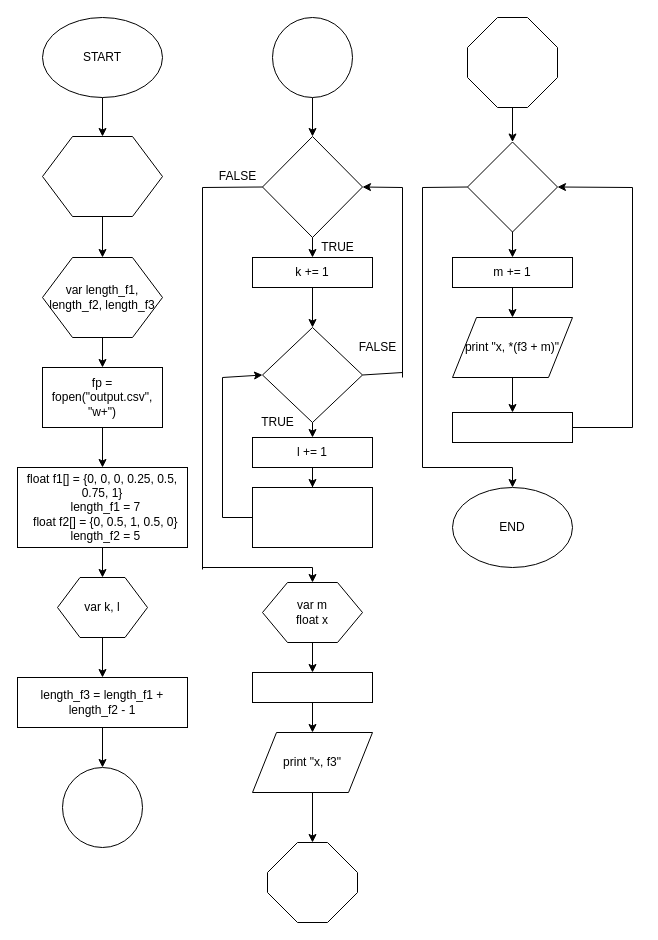
This 658x940 diagram has some shape labels left out. The box of each missing label's shape, as (x1, y1, x2, y2) in pixels:
*(f3 + l) += (*( f1 + k ) * *(f2+l-k) ): (252, 486, 372, 548)
float array f1[7] float array f2[5] float array f3[59]: (42, 136, 162, 216)
k <= length_f1 - 1 ?: (262, 136, 362, 238)
l <= k + length_f2 - 1: (262, 326, 362, 422)
m <= length_f3 - 1: (466, 141, 558, 232)
x += 0.5: (452, 412, 572, 442)
x = -1: (252, 672, 372, 702)
